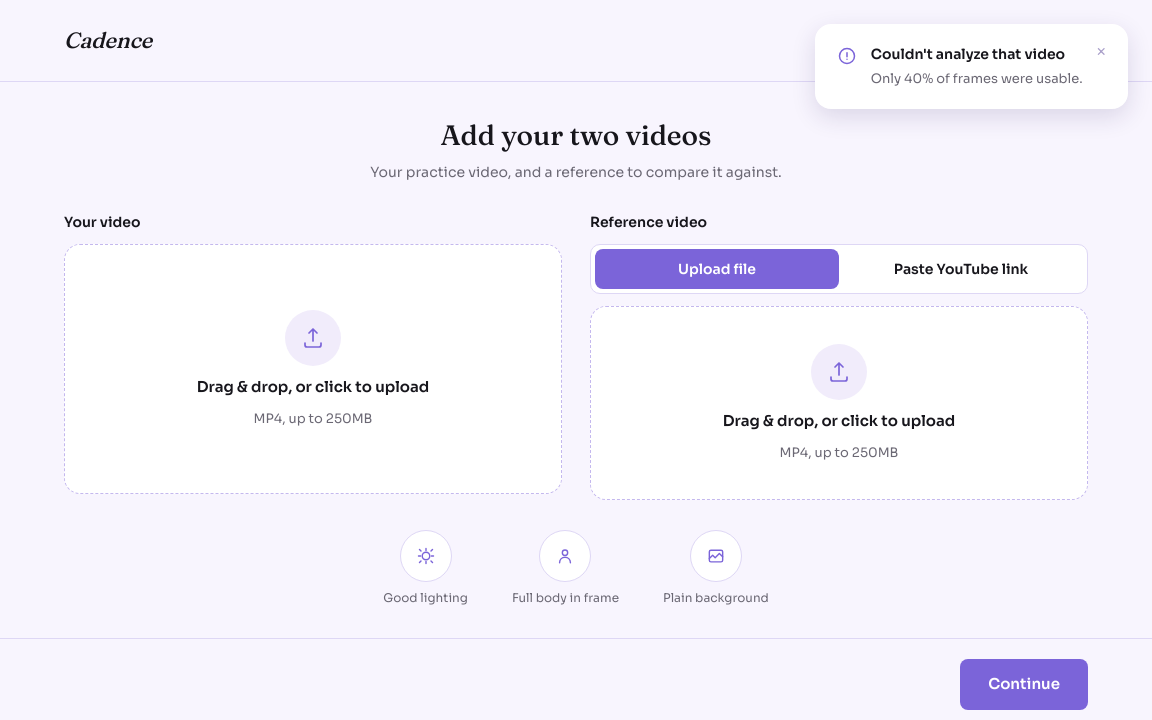
Test: UploadPage › explains a rejected analysis with a dismissible notice
Expected: the heading "Add your two videos" is shown, [440,118,712,152]
Expected: the text "Only 40% of frames were usable." is shown, [871,68,1083,89]
Step 1. Click the button named "dismiss" → {"x": 1101, "y": 52}, box [1096,44,1106,60]
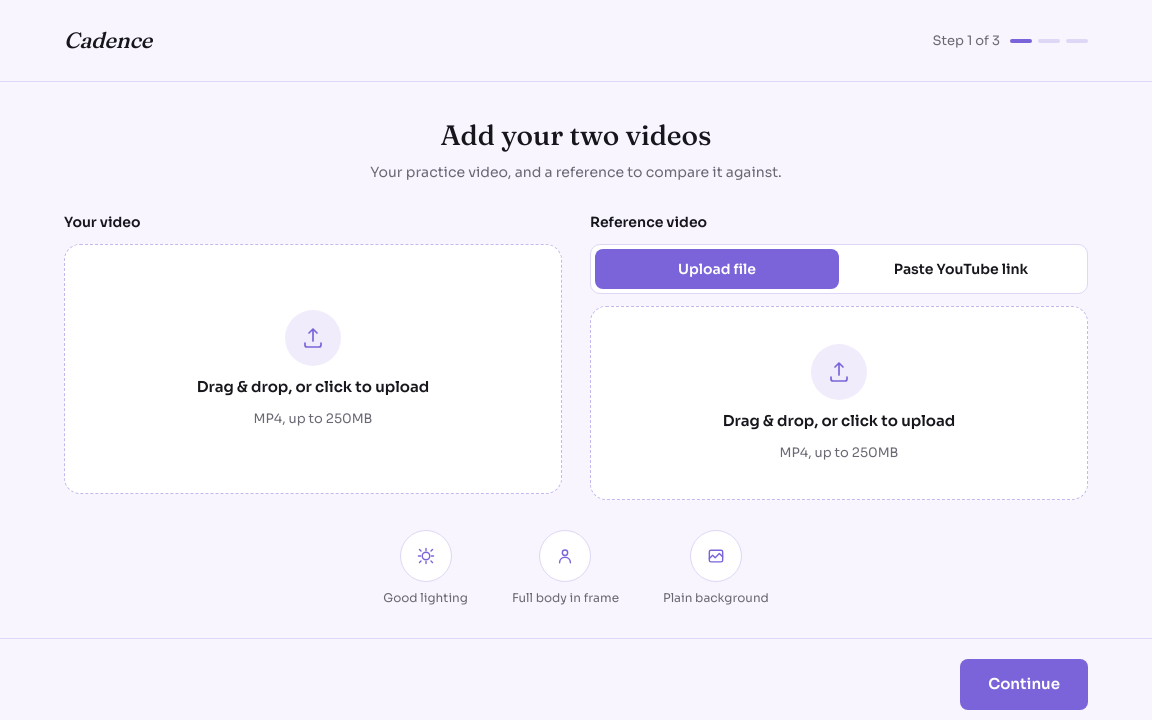
Expected: the text "Only 40% of frames were usable." is gone
